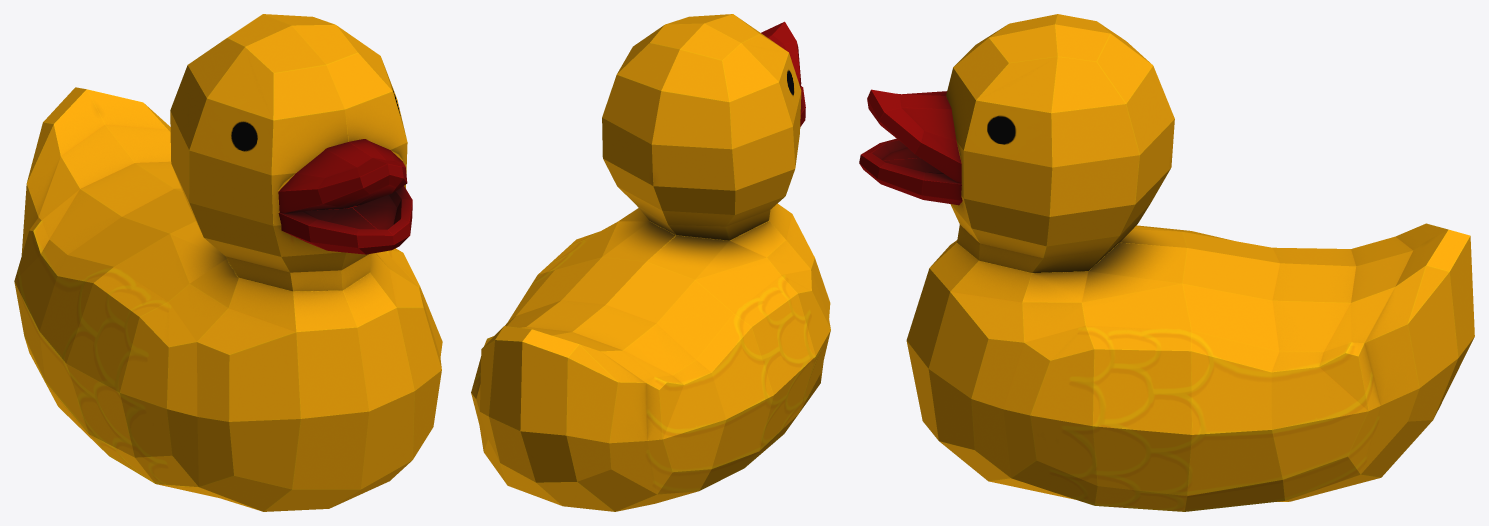
The model's file is Rubber Duck.glb.
3 views of the same model, side by side, from view 1: azimuth 30°, elevation 25°; view 2: azimuth 150°, elevation 25°; view 3: azimuth 270°, elevation 25° (orthographic). The views are drawn at different scales.
Visible parts, largest first — view 1: RubberDuck_mesh; view 2: RubberDuck_mesh; view 3: RubberDuck_mesh.
Part boxes in pixels (x1=…): RubberDuck_mesh: x1=14, y1=14, x2=442, y2=511; RubberDuck_mesh: x1=471, y1=14, x2=830, y2=511; RubberDuck_mesh: x1=859, y1=14, x2=1474, y2=511.
Size of the model in its own units: 3.97 by 5.82 by 7.16.
Materials: 1 (1 with a texture image).
